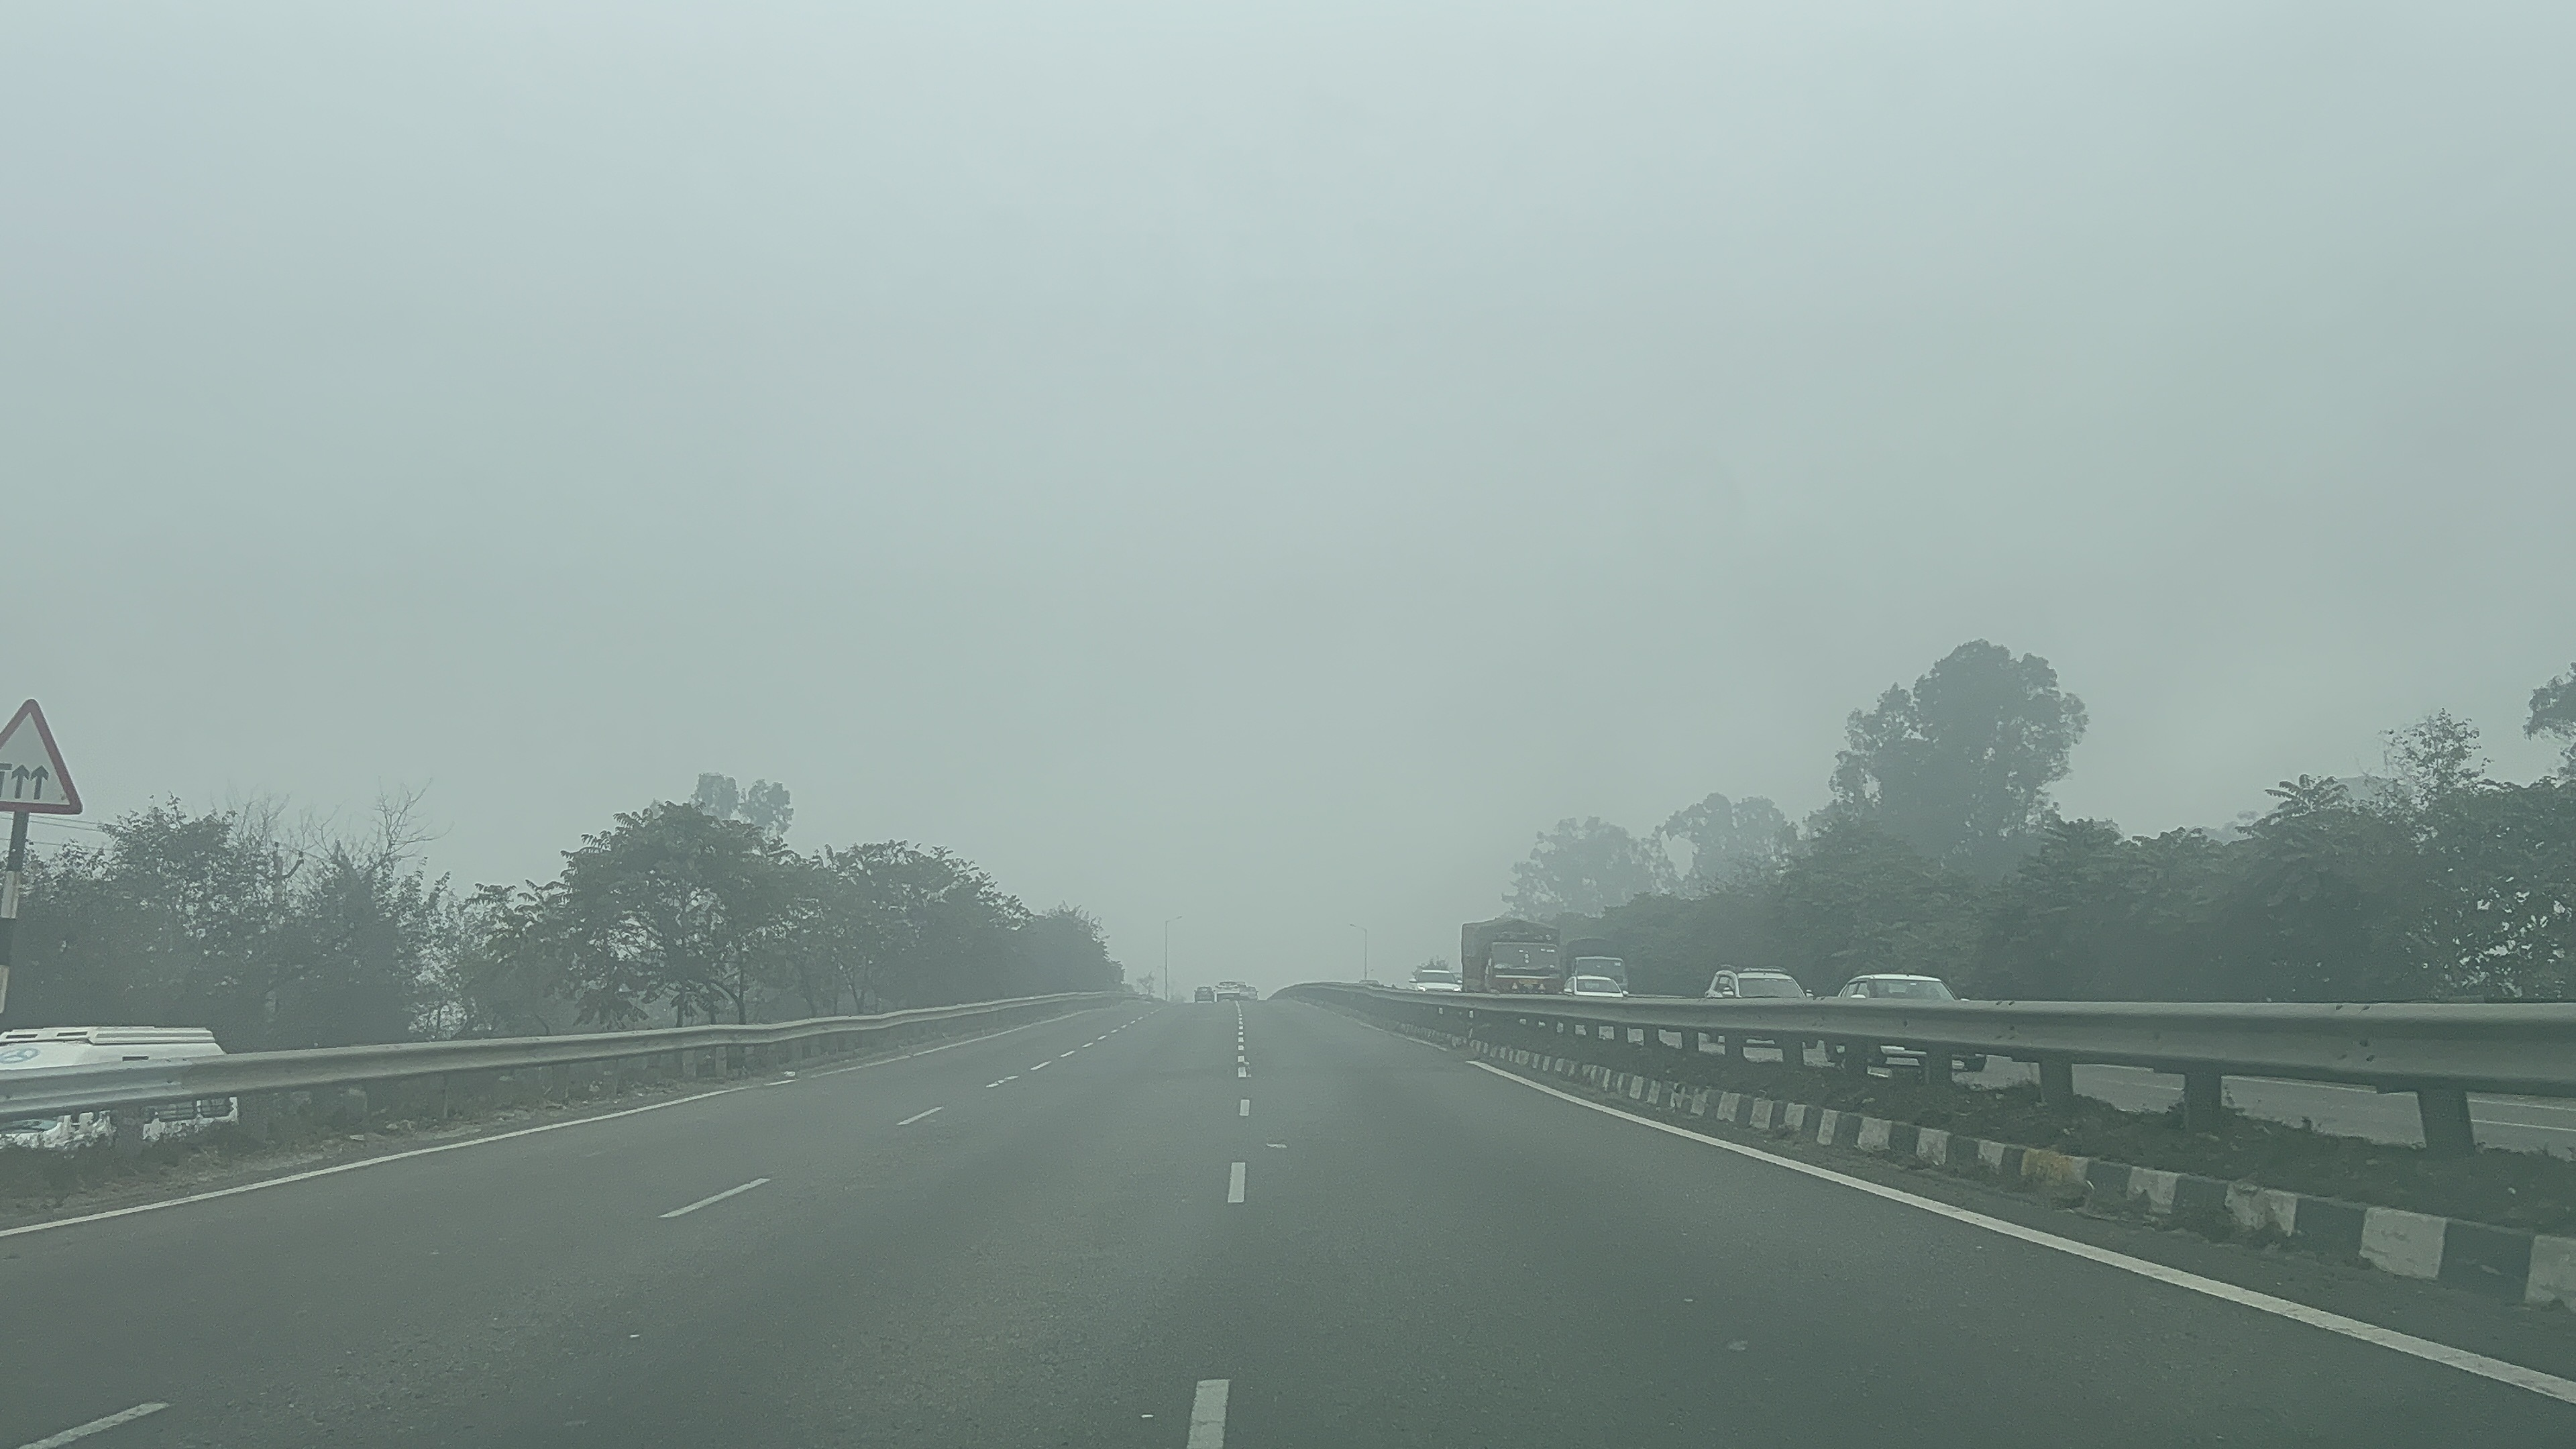Warning: (0, 685, 98, 830)
